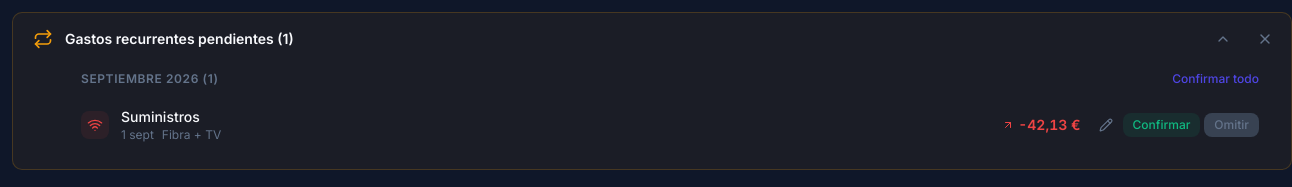
Scenario: RecurringPendingPanel: modifying the amount of an occurrence › names the input as the full amount, since the reference is hidden from screen readers
Step 1. Click the button named "Modificar monto" → x=1106, y=125, box [1093,112,1119,138]
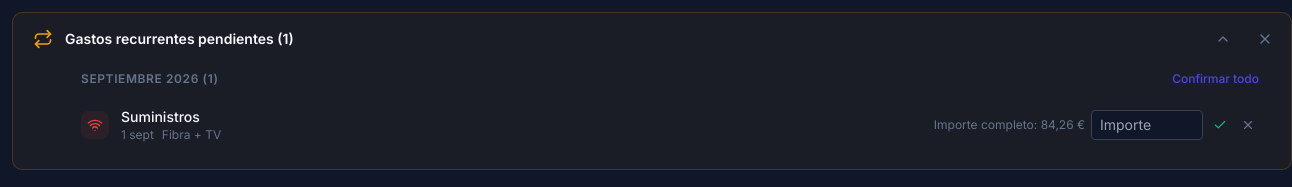
Expected: the number of number fields named "Nuevo importe completo (€)" is 2
